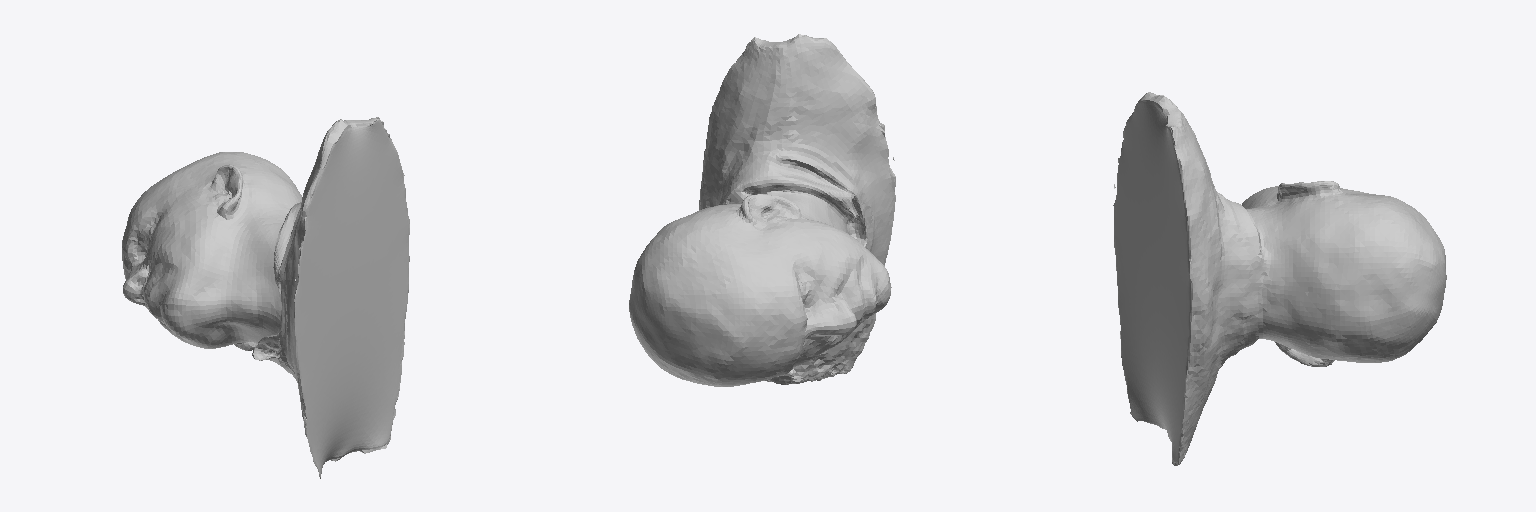
The model's file is white_man_head.obj.
3 views of the same model, side by side, from view 1: azimuth 30°, elevation 25°; view 2: azimuth 150°, elevation 25°; view 3: azimuth 270°, elevation 25° (orthographic).
Parts seen in each view (by area): view 1: white_man_head; view 2: white_man_head; view 3: white_man_head.
Part boxes in pixels (x1,y1,x2,y2): white_man_head: (122,117,409,478); white_man_head: (629,34,895,386); white_man_head: (1113,92,1446,465).
Bounding box in the file's own units: 0.8593 × 1.29 × 1.13.